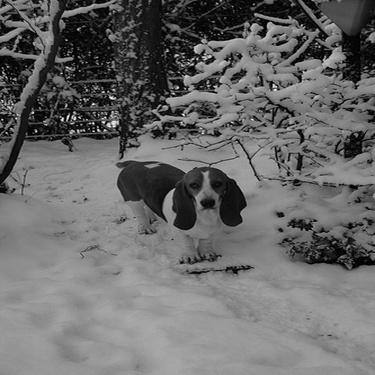dog: (107, 152, 251, 273)
